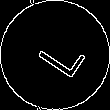L_NW: (25, 28, 85, 82)
